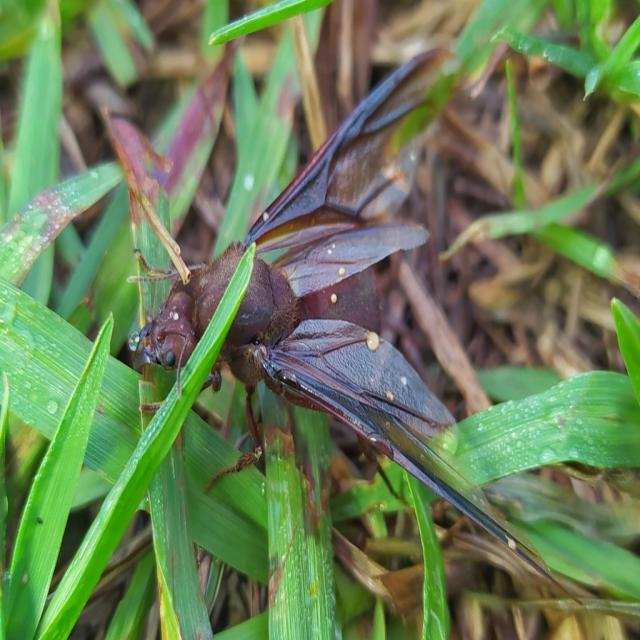Alive-Female-Alate: (126, 45, 584, 607)
